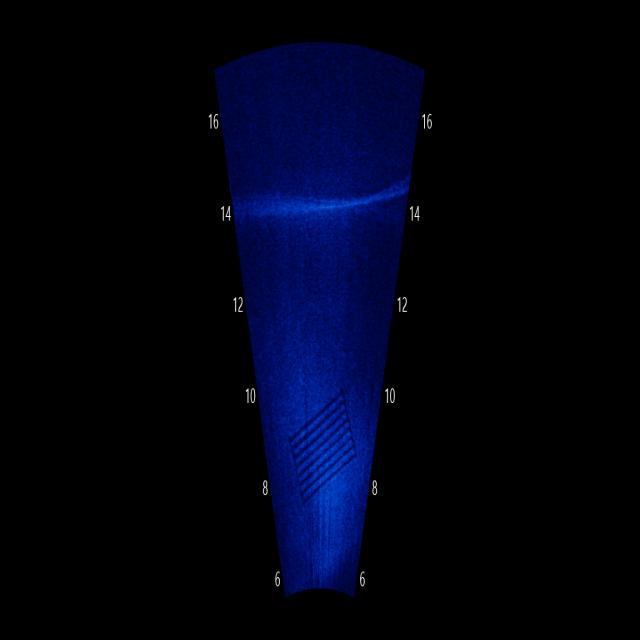square: (283, 380, 364, 500)
